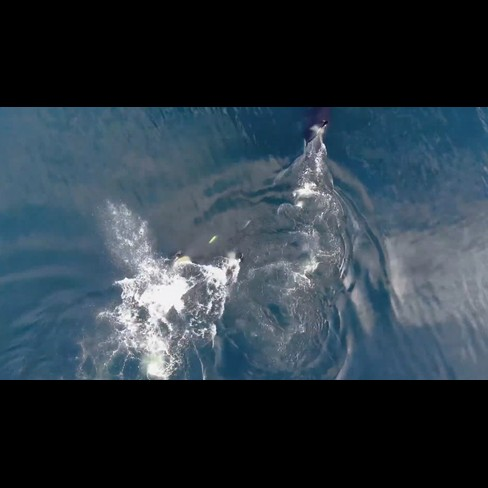orca: (278, 109, 341, 231)
